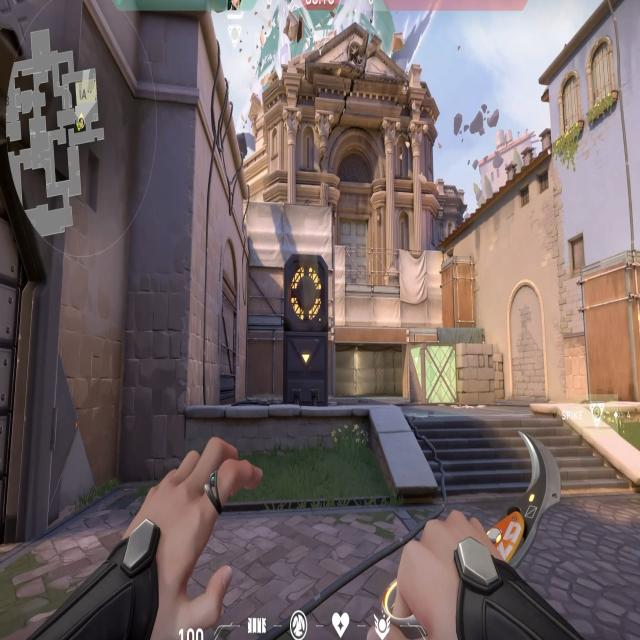A_Heaven_Box: (435, 249, 483, 340)
A_Heaven_Wall: (266, 187, 350, 324)
A_Hell: (323, 315, 417, 404)
A_Site_Box: (407, 331, 498, 409)
